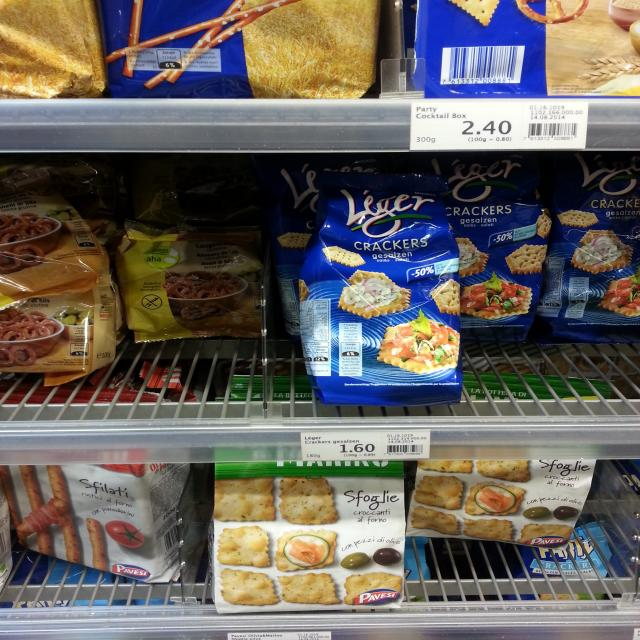Snacks: (304, 181, 462, 409), (216, 444, 405, 611), (100, 0, 378, 101), (3, 463, 196, 584), (414, 0, 639, 97), (406, 452, 598, 555), (436, 163, 546, 333), (112, 227, 264, 343), (544, 163, 640, 335), (0, 188, 111, 317)
